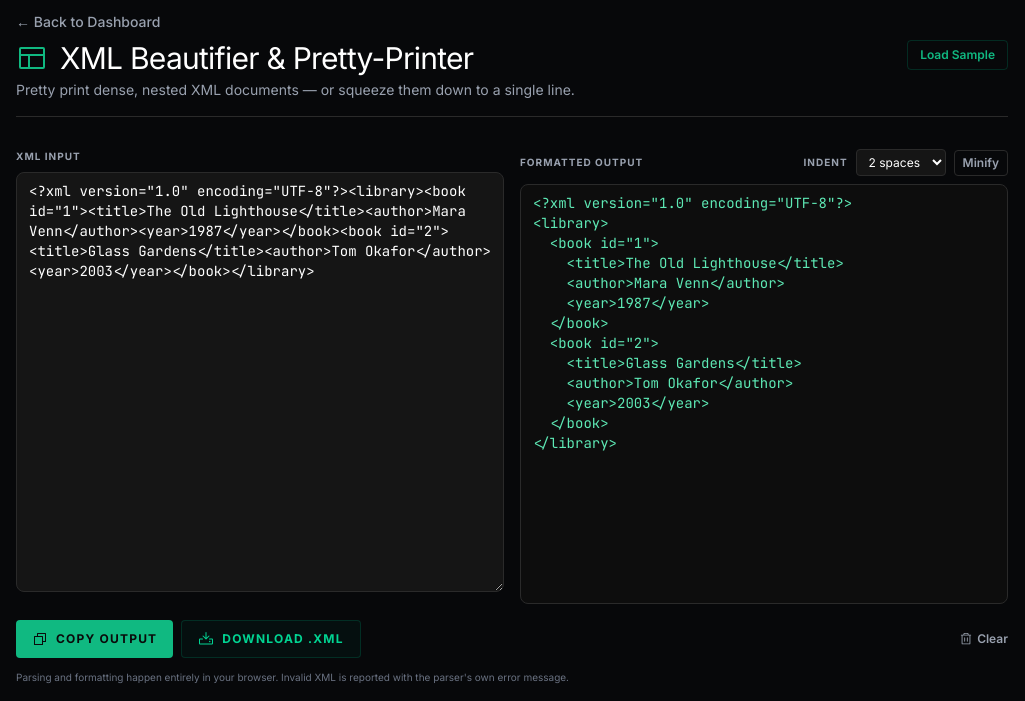
Test: XmlBeautifier › renders the sample formatted and shows an error for bad XML
The image size is (1025, 701).
Step 1. Replace the text in the text box labelled "XML Input" with "<a><b></a>" → (260,382), box top-left (16, 172), bottom-right (504, 592)
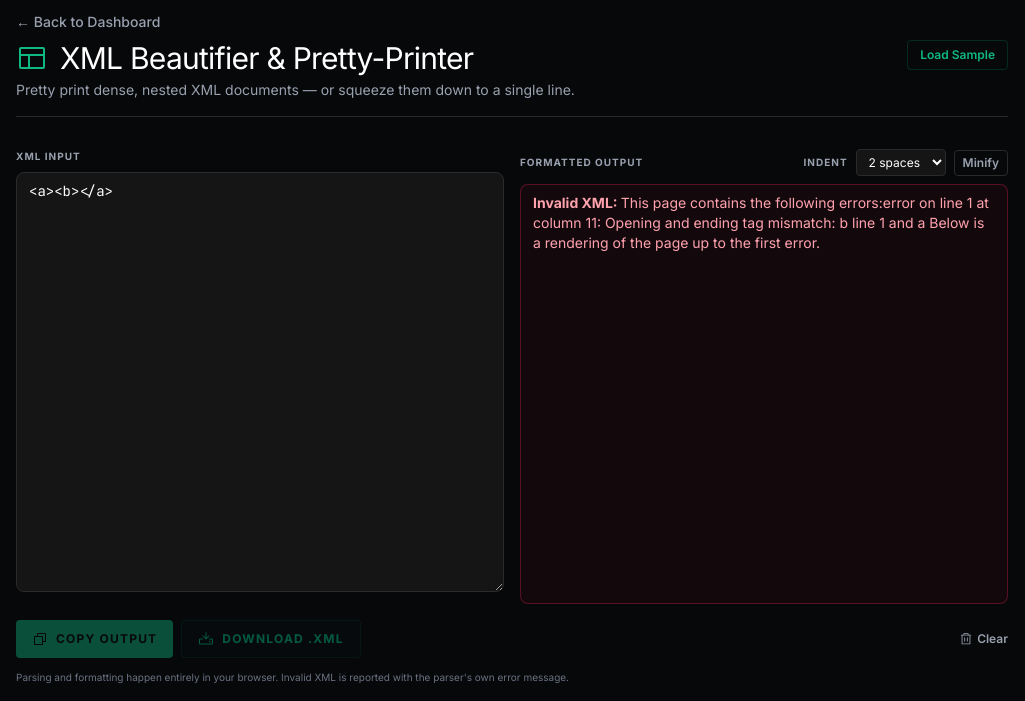
Expected: the element with test id "xml-error" is shown, top-left (520, 184), bottom-right (1008, 604)
